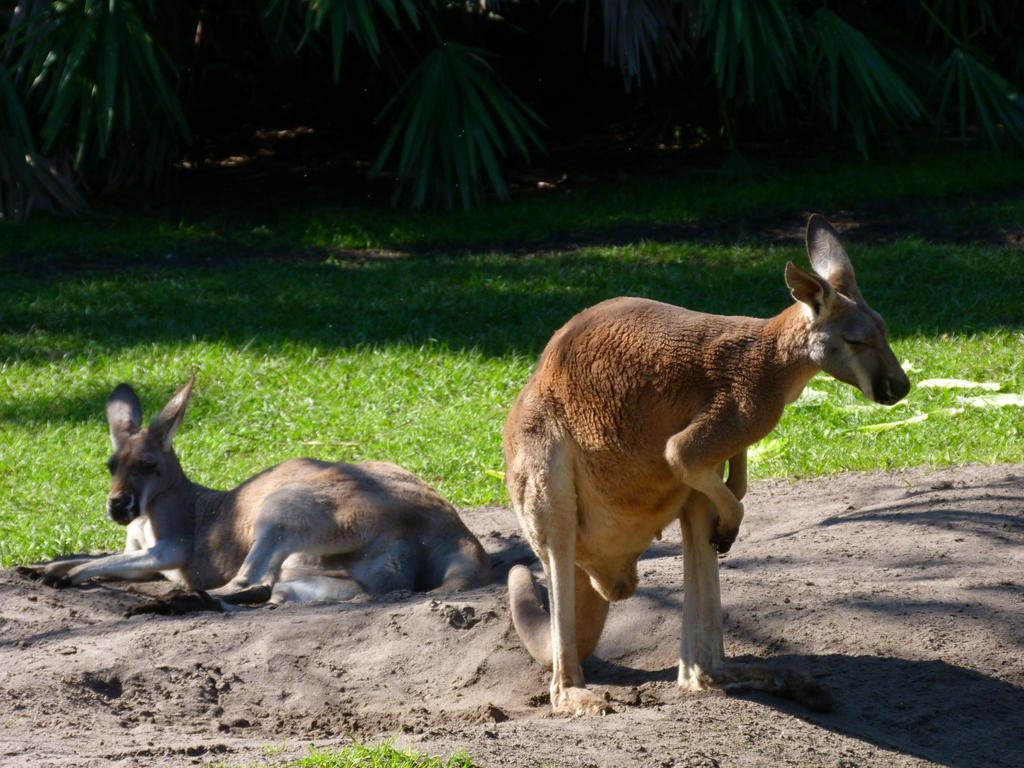kangaroo: (498, 213, 911, 722), (16, 384, 501, 607)
